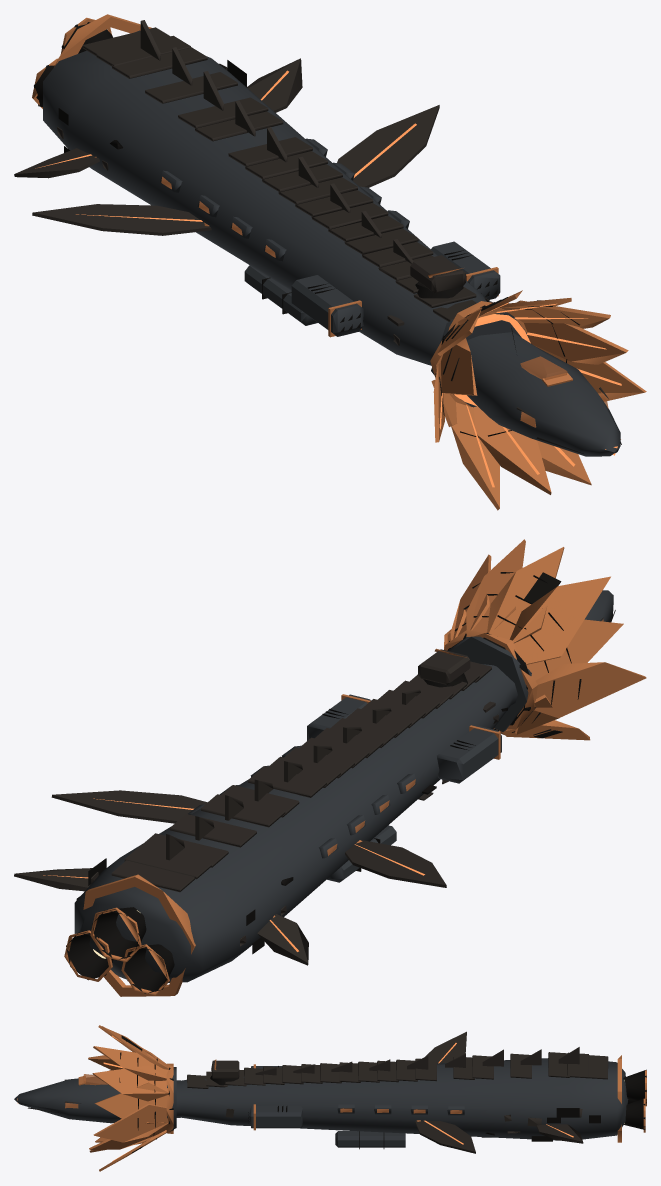
The model's file is kryza-heliotropi-coalition-29-lod1.glb.
3 renders of one model, top to bottom at view 1: azimuth 30°, elevation 25°; view 2: azimuth 150°, elevation 25°; view 3: azimuth 270°, elevation 25°, orthographic. The views are drawn at different scales.
Size of the model in its own units: 21.65 by 10.31 by 47.7.
